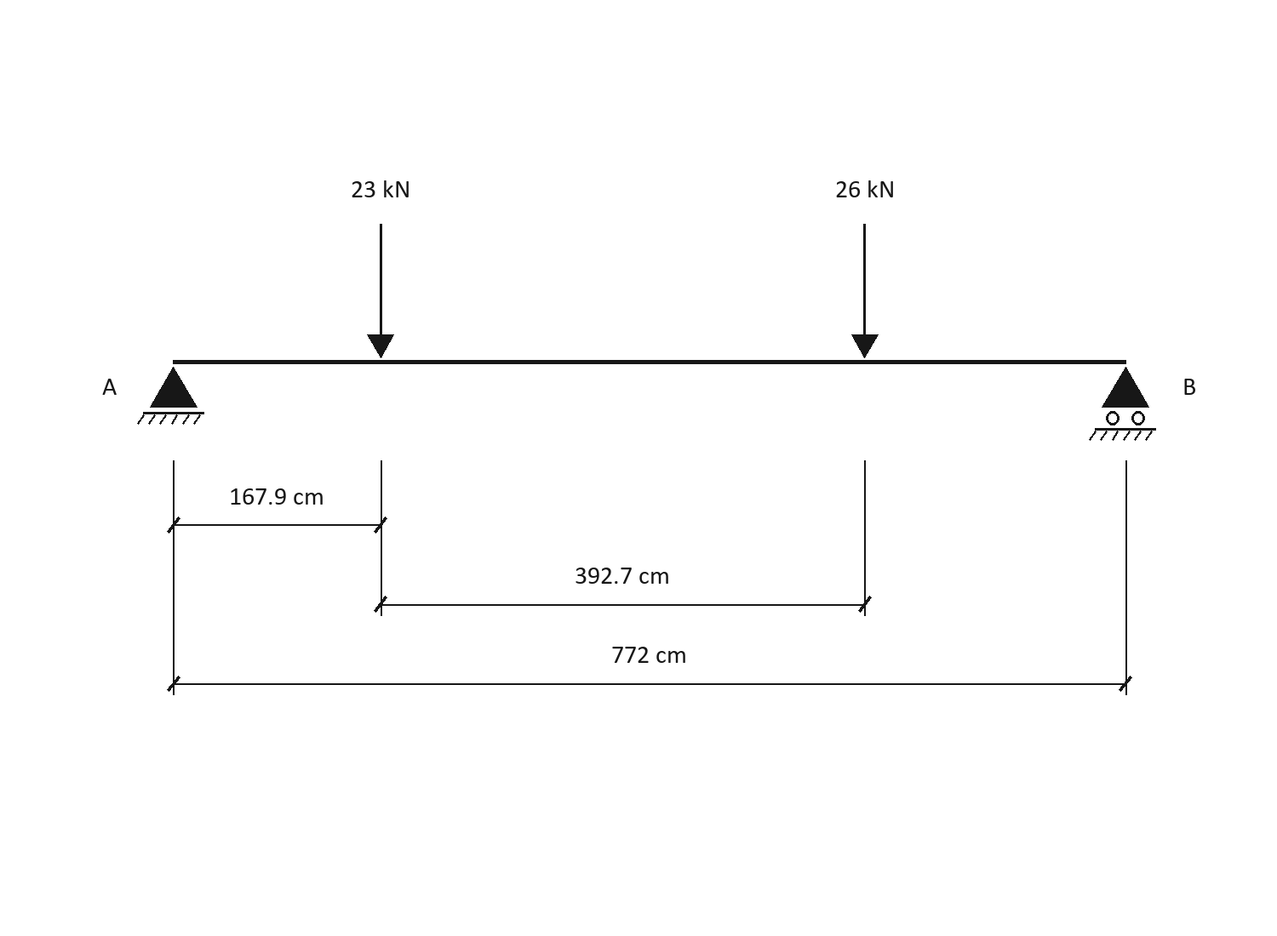pin_support: (137, 367, 204, 425)
point_load: (851, 224, 879, 358), (367, 224, 394, 358)
roller_support: (1089, 367, 1156, 441)
